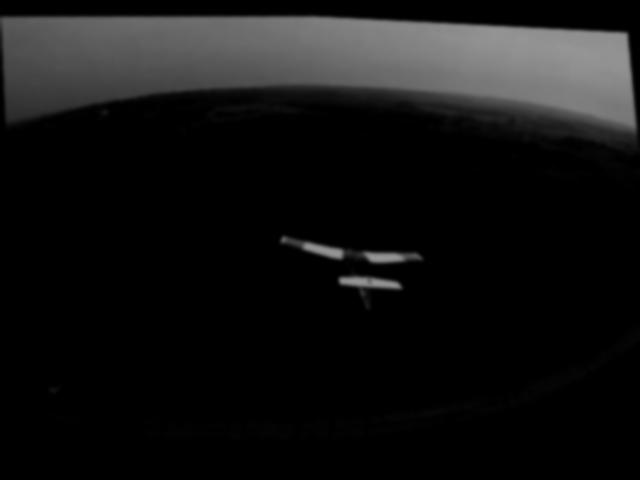hedef: (275, 225, 423, 315)
